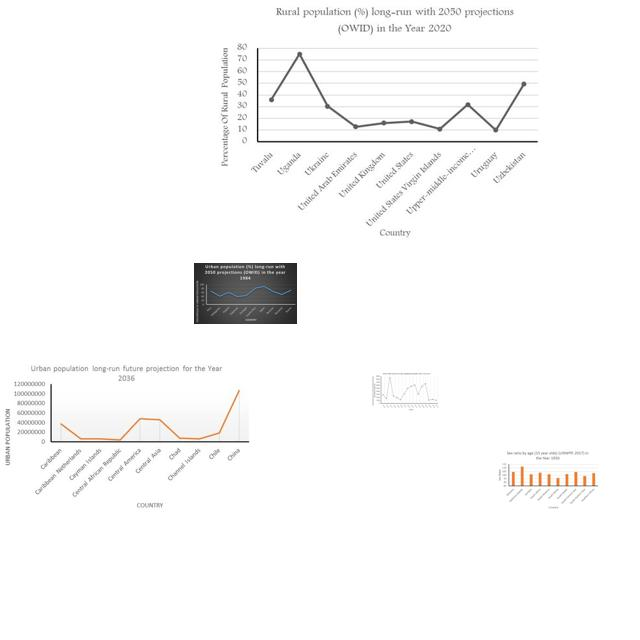Graph: (213, 1, 544, 241), (1, 360, 254, 515), (495, 449, 601, 512), (194, 263, 297, 324), (371, 372, 439, 411)
